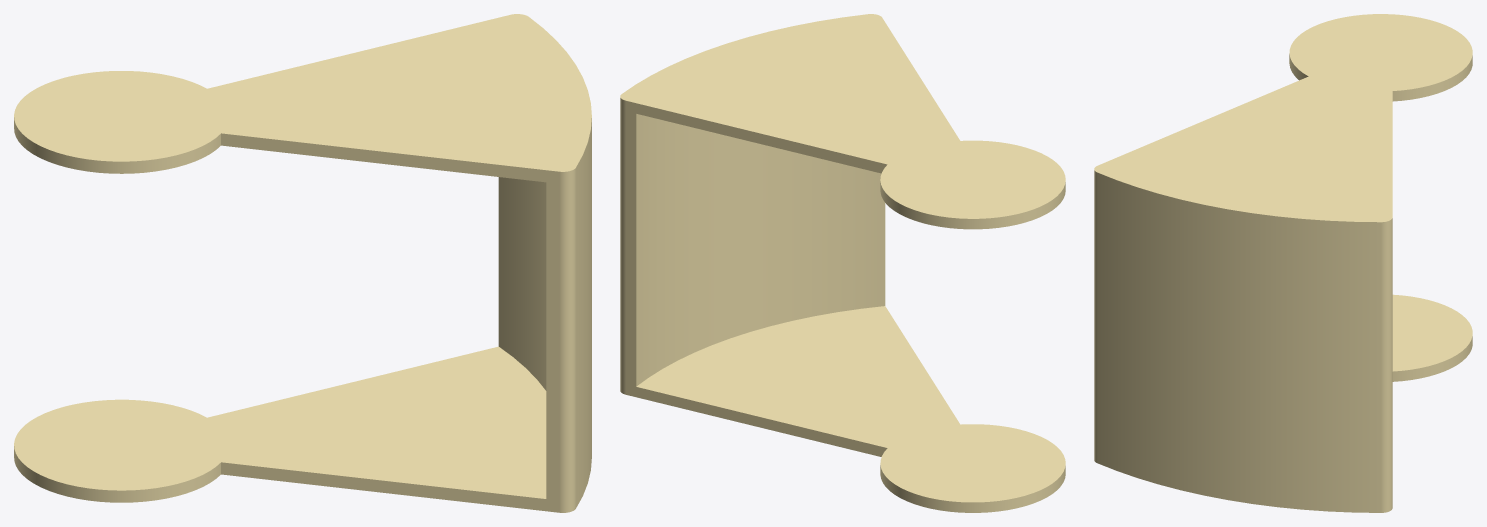
3 renders of one model, left to right at view 1: azimuth 30°, elevation 25°; view 2: azimuth 150°, elevation 25°; view 3: azimuth 270°, elevation 25°, orthographic. The views are drawn at different scales.
Parts seen in each view (by area): view 1: Hood; view 2: Hood; view 3: Hood.
Part boxes in pixels (x1,y1,x2,y2): Hood: [14, 14, 591, 512]; Hood: [620, 14, 1065, 512]; Hood: [1094, 14, 1472, 512].
Size of the model in its own units: 0.273 by 0.1778 by 0.2098.
